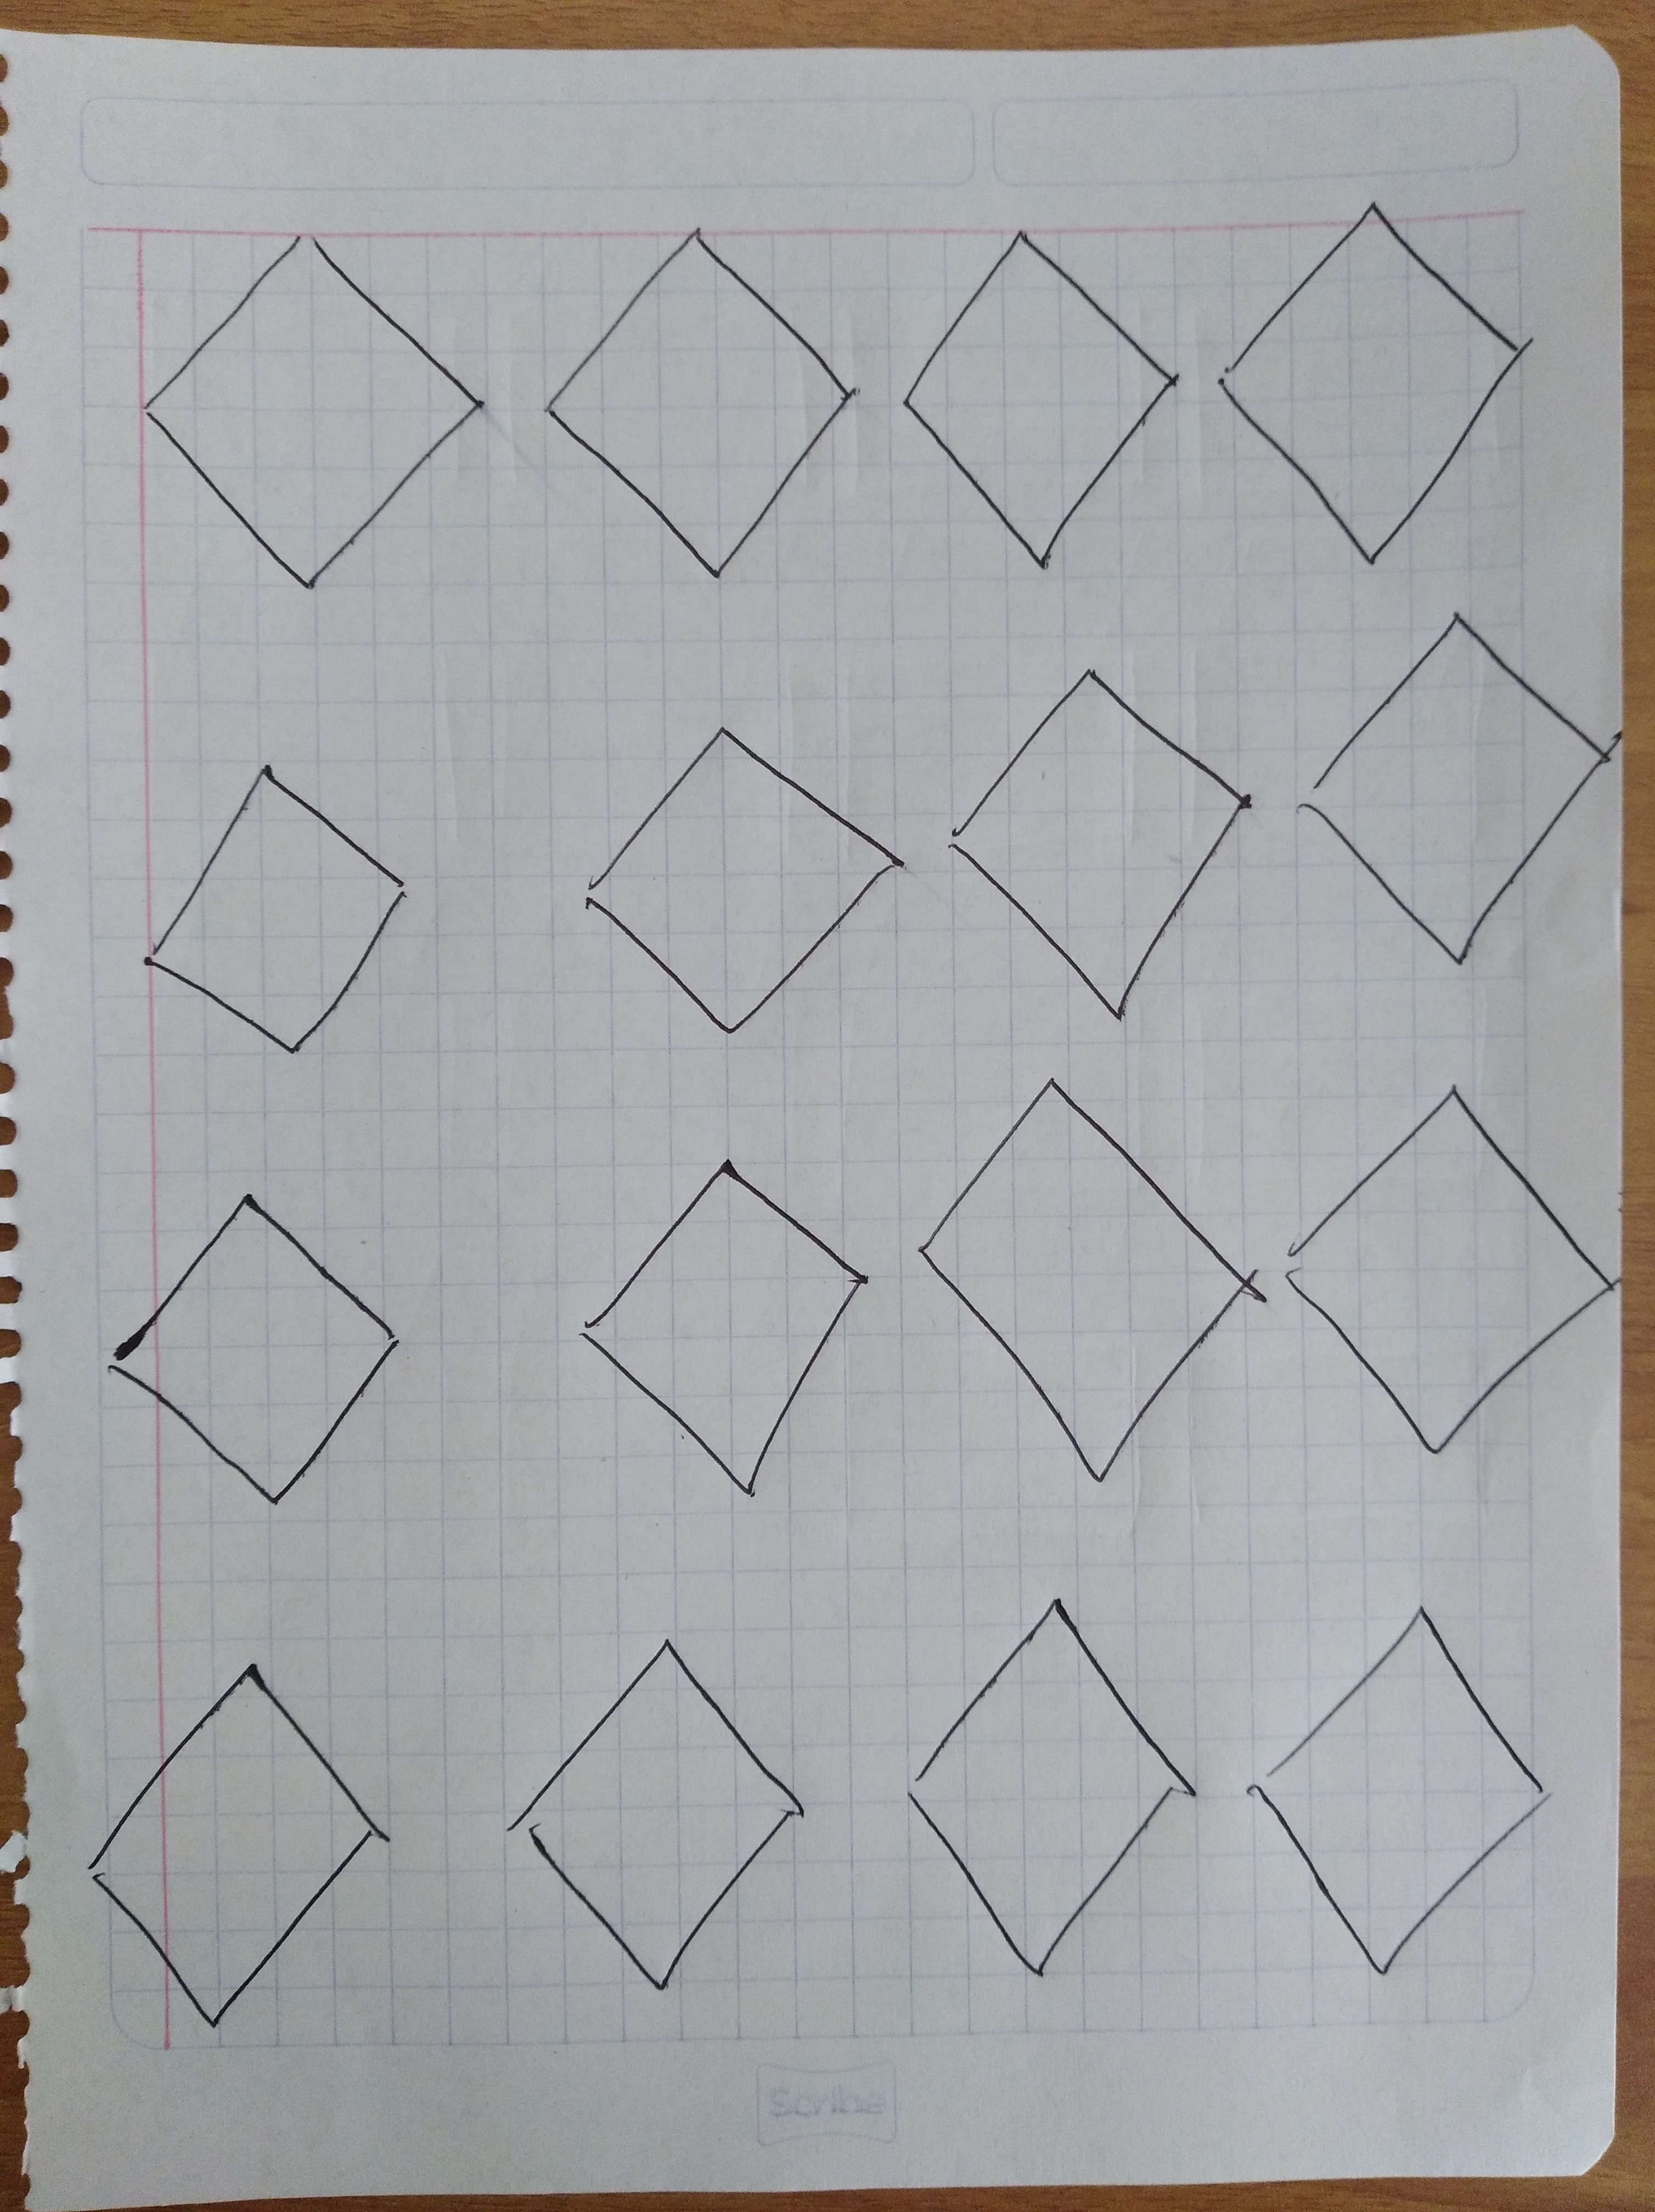decision: (111, 203, 501, 622), (906, 1060, 1267, 1505), (876, 1581, 1217, 2012), (70, 1637, 426, 2040), (534, 203, 871, 619), (1276, 1074, 1622, 1477), (1208, 188, 1547, 584), (1236, 1578, 1556, 1997), (485, 1623, 826, 2007), (932, 652, 1267, 1039), (1285, 599, 1617, 973), (563, 1133, 883, 1519), (89, 742, 449, 1079), (565, 711, 914, 1046), (897, 217, 1193, 598), (101, 1176, 424, 1519)
